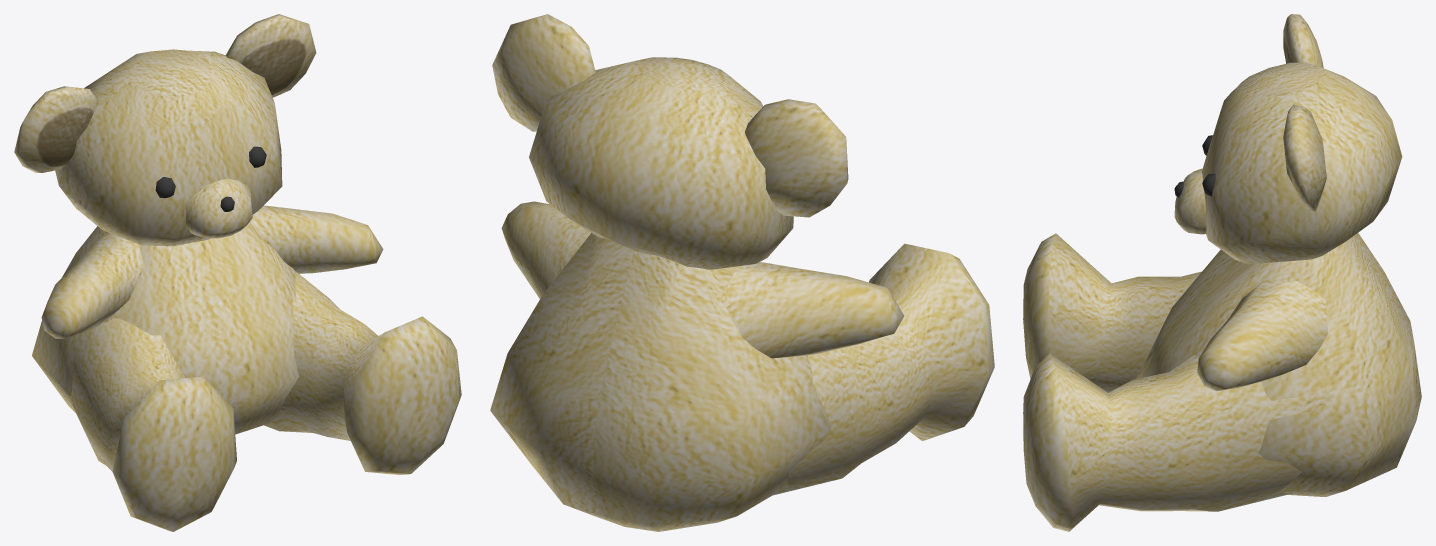
The model's file is TeddyBear.fbx.
3 views of the same model, side by side, from view 1: azimuth 30°, elevation 25°; view 2: azimuth 150°, elevation 25°; view 3: azimuth 270°, elevation 25° (orthographic). The views are drawn at different scales.
Visible parts, largest first — view 1: teddybear; view 2: teddybear; view 3: teddybear.
Part boxes in pixels (<box>): teddybear: <box>14,14,461,531</box>; teddybear: <box>490,14,994,531</box>; teddybear: <box>1023,14,1421,531</box>.
Bounding box in the file's own units: 89.75 × 96.61 × 84.52.
